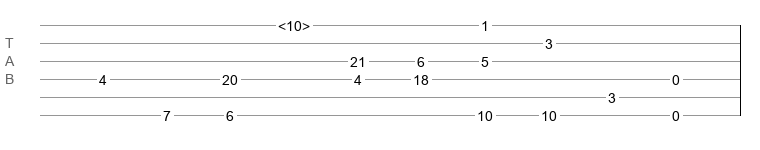0: (672, 108, 680, 118), (672, 72, 680, 82)
1: (481, 18, 489, 28)
10: (477, 108, 493, 118), (541, 108, 557, 118)
18: (413, 72, 429, 82)
20: (222, 72, 238, 82)
21: (350, 54, 366, 64)
3: (545, 36, 553, 46), (608, 90, 616, 100)
4: (99, 72, 107, 82), (354, 72, 362, 82)
5: (481, 54, 489, 64)
6: (226, 108, 234, 118), (417, 54, 425, 64)
7: (163, 108, 171, 118)
harmonic: (278, 18, 310, 28)
